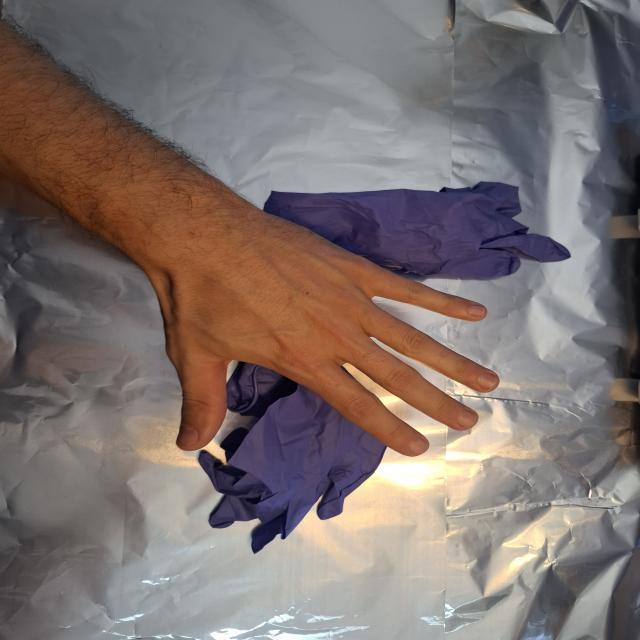glove_off: (150, 217, 502, 458)
